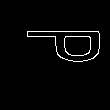P_E: (9, 37, 101, 73)
